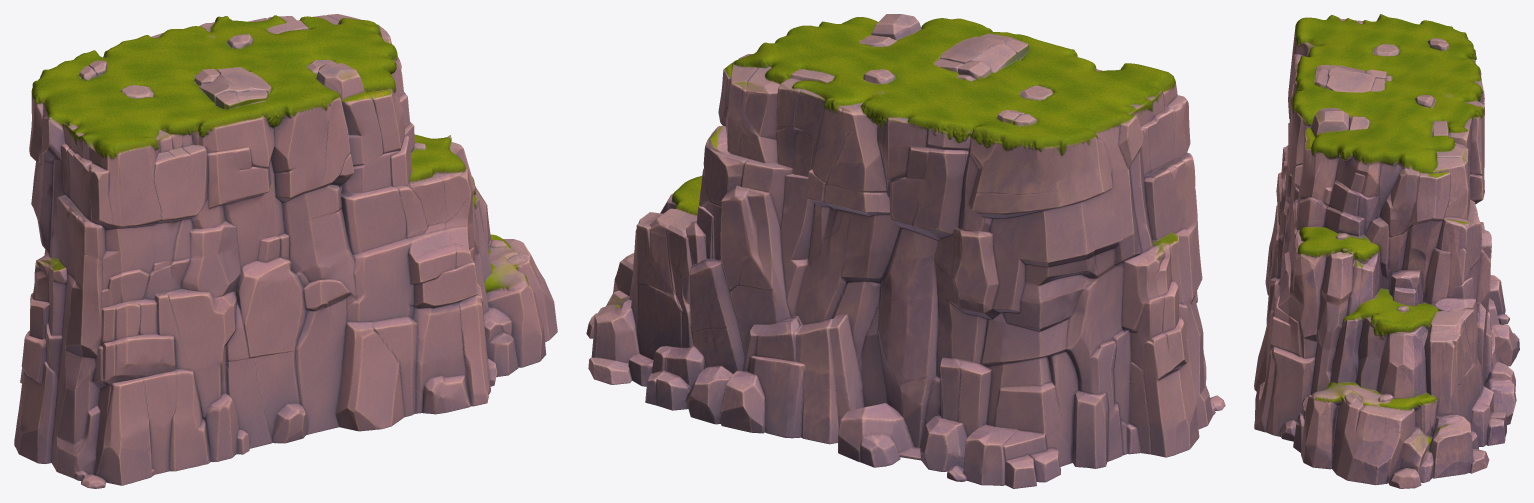
The model's file is 15-shore-rock-islet.glb.
3 views of the same model, side by side, from view 1: azimuth 30°, elevation 25°; view 2: azimuth 150°, elevation 25°; view 3: azimuth 270°, elevation 25° (orthographic). The views are drawn at different scales.
Size of the model in its own units: 1.9 by 1.09 by 0.9508.
Materials: 1 (1 with a texture image).
